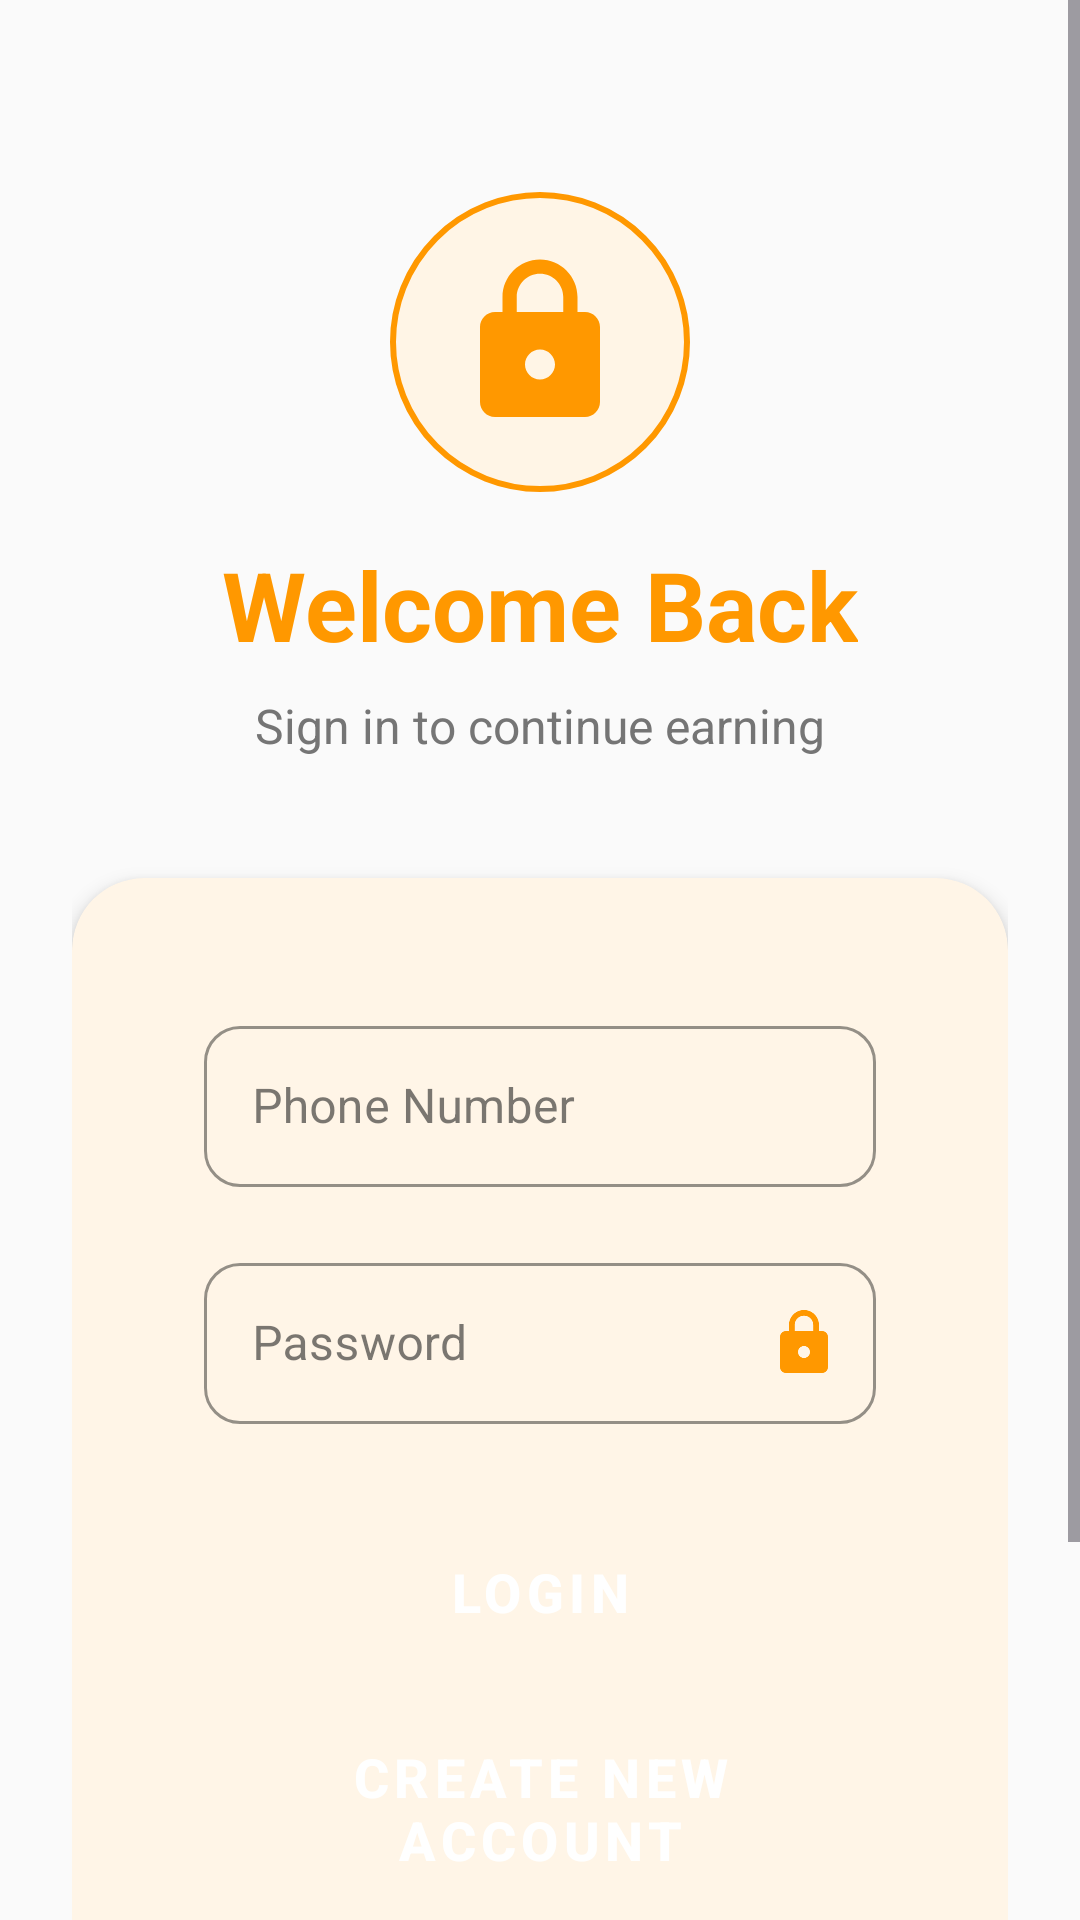

Locate icon controls on the screen. Image size 1080x1920, boxes as BBox(x1, y1, x2, y2).
lock idle: BBox(390, 192, 690, 492)
